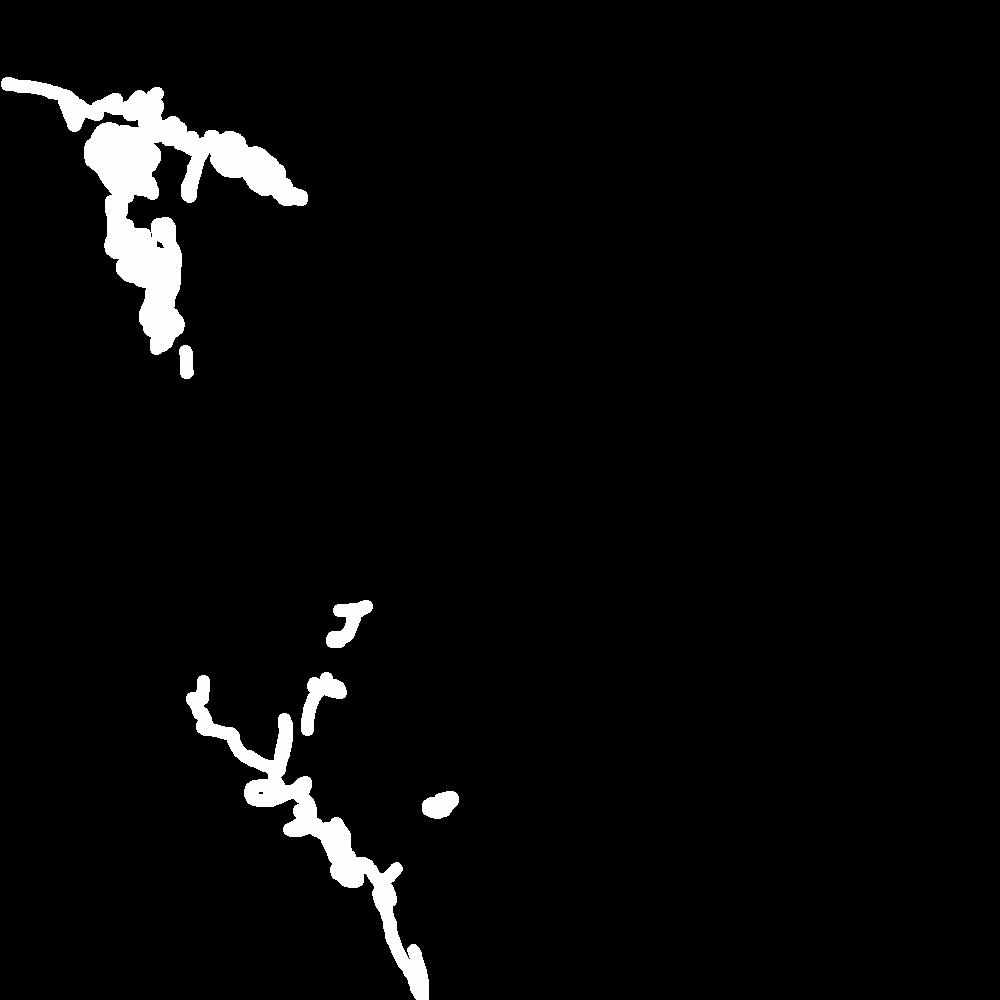illegal: (1, 57, 355, 359), (258, 571, 463, 1000), (124, 606, 258, 764)
